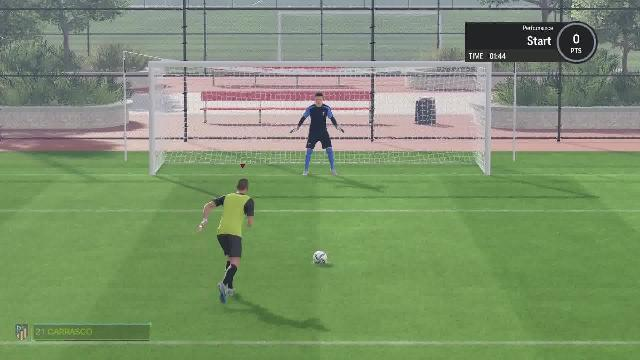circle: (313, 262, 329, 264)
football: (313, 250, 329, 264)
goal-bottom-left: (156, 124, 260, 173)
goal-bottom-right: (374, 122, 484, 172)
goal-middle-down: (261, 125, 371, 175)
goal-middle-up: (260, 69, 372, 123)
goal-top-left: (157, 69, 259, 123)
goal-top-right: (374, 68, 484, 120)
goalkeeper: (287, 90, 347, 178)
player: (196, 178, 258, 303)
